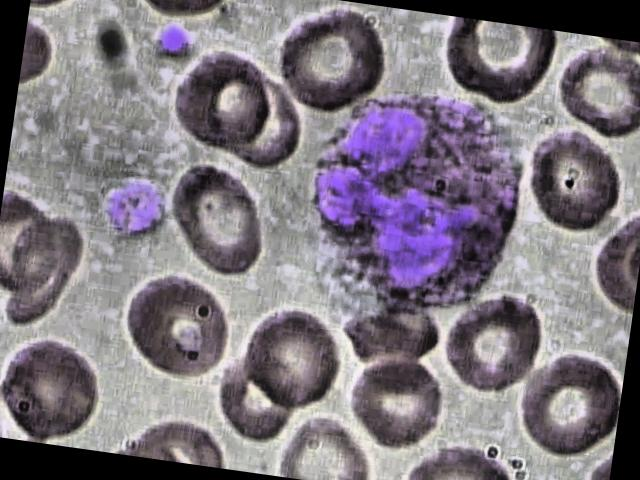Platelets: (98, 170, 175, 246), (148, 18, 198, 64)
RBC: (156, 152, 286, 282), (269, 0, 398, 125), (515, 118, 633, 251), (116, 270, 241, 386), (0, 328, 122, 444), (516, 344, 626, 466), (339, 337, 449, 459), (166, 40, 278, 154), (438, 284, 548, 400), (238, 297, 348, 410), (430, 16, 562, 108), (549, 33, 640, 143), (283, 410, 382, 480), (404, 426, 524, 480)
WBC: (282, 64, 548, 322)
